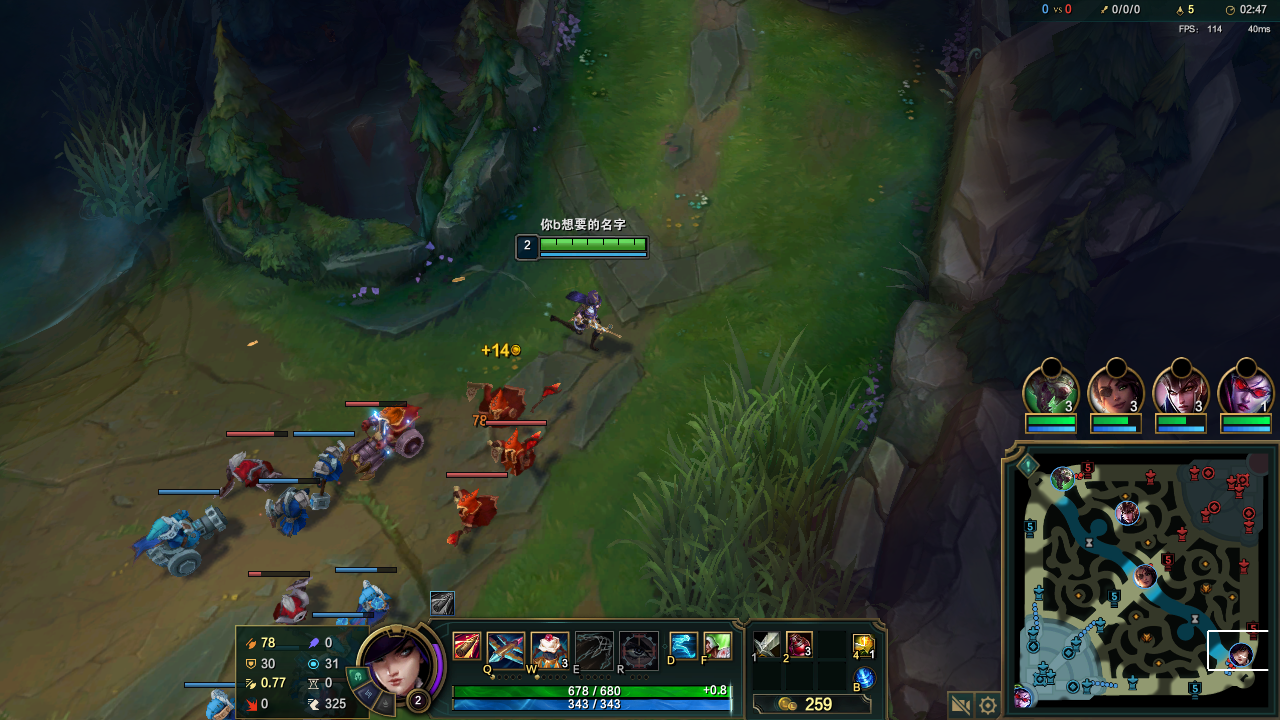DFXB: (359, 411, 423, 474), (446, 486, 497, 544), (489, 429, 545, 475), (225, 450, 283, 494), (267, 584, 306, 617)
WFXB: (132, 502, 230, 581), (263, 487, 315, 537), (313, 444, 349, 489), (355, 583, 393, 621), (208, 686, 235, 719)
Yita: (1185, 678, 1204, 699)
